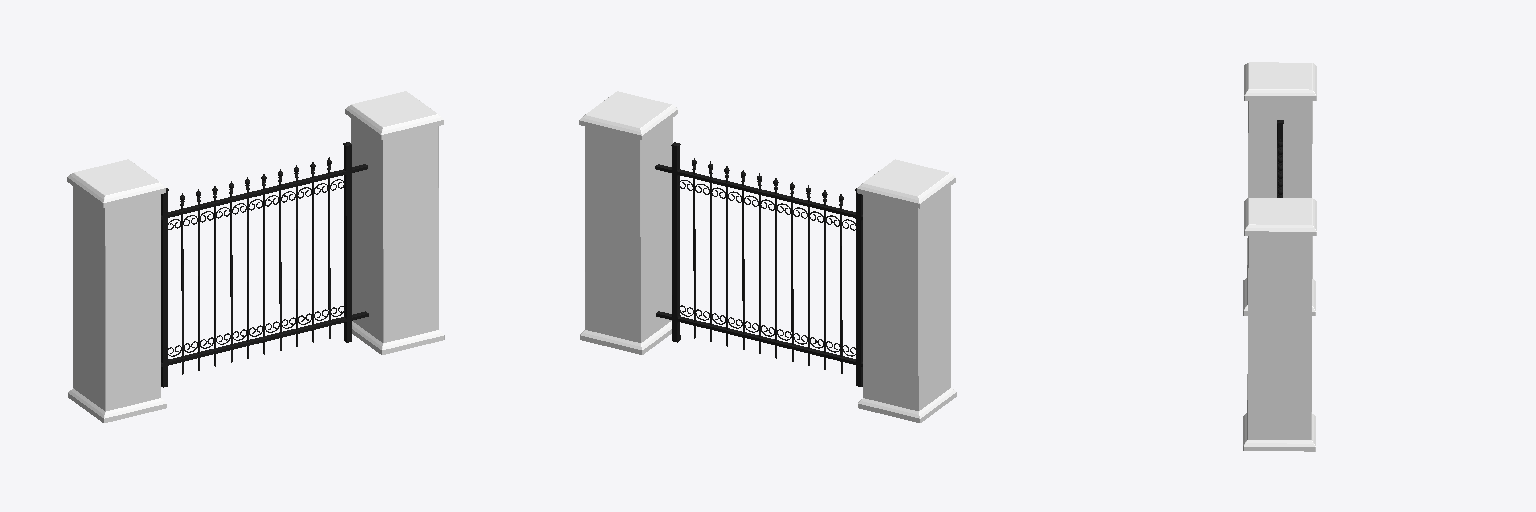
Rendered from Fence.obj.
3 views of the same model, side by side, from view 1: azimuth 30°, elevation 25°; view 2: azimuth 150°, elevation 25°; view 3: azimuth 270°, elevation 25° (orthographic).
Visible parts, largest first — view 1: Wrought_Iron_fence_with_brick_5, Wrought_Iron_fence_with_brick_1, Wrought_Iron_fence_with_brick_6, Wrought_Iron_fence_with_brick_11, Wrought_Iron_fence_with_brick_8, Wrought_Iron_fence_with_brick_4, Wrought_Iron_fence_with_brick_9, Wrought_Iron_fence_with_brick_3, Wrought_Iron_fence_with_brick_2; view 2: Wrought_Iron_fence_with_brick_5, Wrought_Iron_fence_with_brick_1, Wrought_Iron_fence_with_brick_6, Wrought_Iron_fence_with_brick_11, Wrought_Iron_fence_with_brick_4, Wrought_Iron_fence_with_brick_8, Wrought_Iron_fence_with_brick_9, Wrought_Iron_fence_with_brick_3, Wrought_Iron_fence_with_brick_2; view 3: Wrought_Iron_fence_with_brick_1, Wrought_Iron_fence_with_brick_5, Wrought_Iron_fence_with_brick_8, Wrought_Iron_fence_with_brick_4, Wrought_Iron_fence_with_brick_2.
Boxes of the visible parts, x1=… form: Wrought_Iron_fence_with_brick_5: x1=73, y1=186, x2=160, y2=411; Wrought_Iron_fence_with_brick_1: x1=351, y1=118, x2=438, y2=342; Wrought_Iron_fence_with_brick_6: x1=161, y1=146, x2=368, y2=387; Wrought_Iron_fence_with_brick_11: x1=181, y1=170, x2=330, y2=374; Wrought_Iron_fence_with_brick_8: x1=67, y1=159, x2=165, y2=207; Wrought_Iron_fence_with_brick_4: x1=345, y1=91, x2=443, y2=139; Wrought_Iron_fence_with_brick_9: x1=168, y1=179, x2=344, y2=356; Wrought_Iron_fence_with_brick_3: x1=68, y1=388, x2=166, y2=422; Wrought_Iron_fence_with_brick_2: x1=352, y1=321, x2=444, y2=354; Wrought_Iron_fence_with_brick_5: x1=863, y1=186, x2=950, y2=410; Wrought_Iron_fence_with_brick_1: x1=585, y1=118, x2=672, y2=342; Wrought_Iron_fence_with_brick_6: x1=655, y1=146, x2=862, y2=386; Wrought_Iron_fence_with_brick_11: x1=693, y1=170, x2=842, y2=373; Wrought_Iron_fence_with_brick_4: x1=579, y1=91, x2=677, y2=139; Wrought_Iron_fence_with_brick_8: x1=857, y1=159, x2=955, y2=208; Wrought_Iron_fence_with_brick_9: x1=679, y1=180, x2=855, y2=356; Wrought_Iron_fence_with_brick_3: x1=858, y1=388, x2=956, y2=422; Wrought_Iron_fence_with_brick_2: x1=580, y1=321, x2=671, y2=354; Wrought_Iron_fence_with_brick_1: x1=1247, y1=236, x2=1312, y2=439; Wrought_Iron_fence_with_brick_5: x1=1247, y1=101, x2=1312, y2=304; Wrought_Iron_fence_with_brick_8: x1=1244, y1=62, x2=1316, y2=100; Wrought_Iron_fence_with_brick_4: x1=1244, y1=198, x2=1316, y2=235; Wrought_Iron_fence_with_brick_2: x1=1243, y1=413, x2=1315, y2=451.
Size of the model in its own units: 339 by 214 by 63.47.